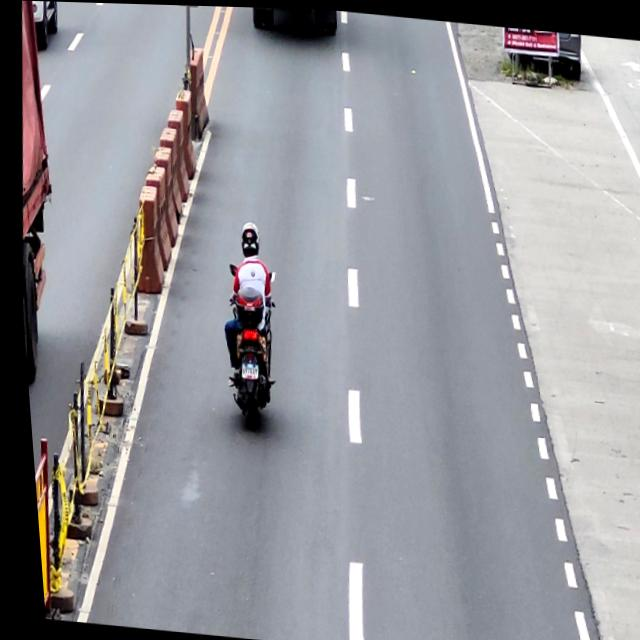License-Plate: (233, 361, 253, 380)
Motorcycle: (212, 259, 280, 432)
